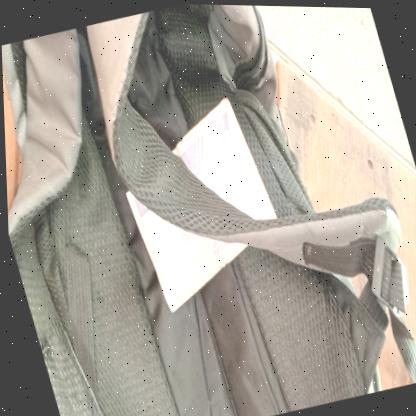ten-back-vef: (102, 87, 298, 318)
